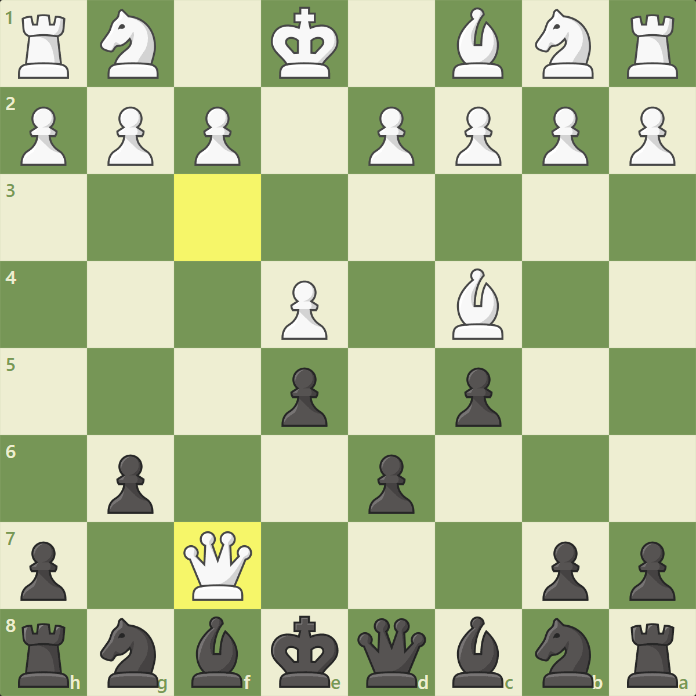B: (449, 265, 506, 344), (449, 5, 507, 82)
K: (266, 4, 340, 82)
N: (532, 7, 598, 83), (99, 6, 162, 83)
P: (627, 102, 679, 171), (278, 275, 329, 344), (18, 100, 69, 169), (104, 101, 155, 170), (192, 102, 243, 171), (365, 101, 416, 170), (452, 101, 503, 170), (539, 102, 590, 171)
Q: (180, 528, 255, 604)
R: (16, 11, 72, 83), (625, 11, 680, 83)
b: (188, 615, 246, 691), (449, 616, 507, 692)
k: (269, 613, 341, 691)
n: (98, 616, 163, 691), (532, 617, 595, 691)
p: (14, 538, 72, 605), (101, 452, 159, 519), (276, 366, 334, 433), (359, 449, 417, 516), (449, 364, 507, 431), (536, 538, 594, 605), (621, 537, 679, 604)
q: (354, 617, 430, 691)
r: (12, 621, 74, 692), (621, 621, 683, 692)
